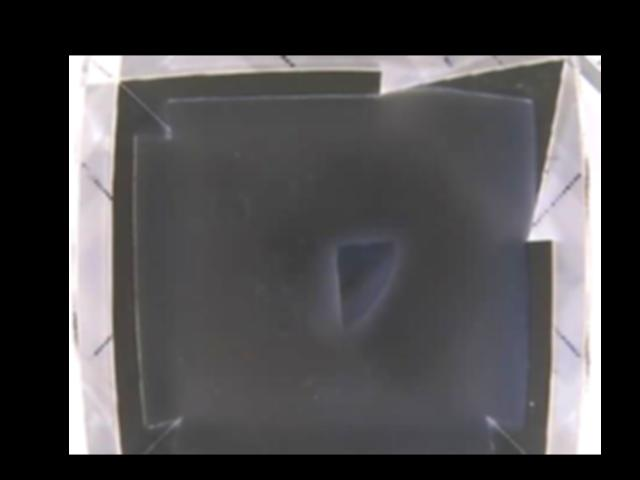Mooli: (337, 239, 399, 328)
